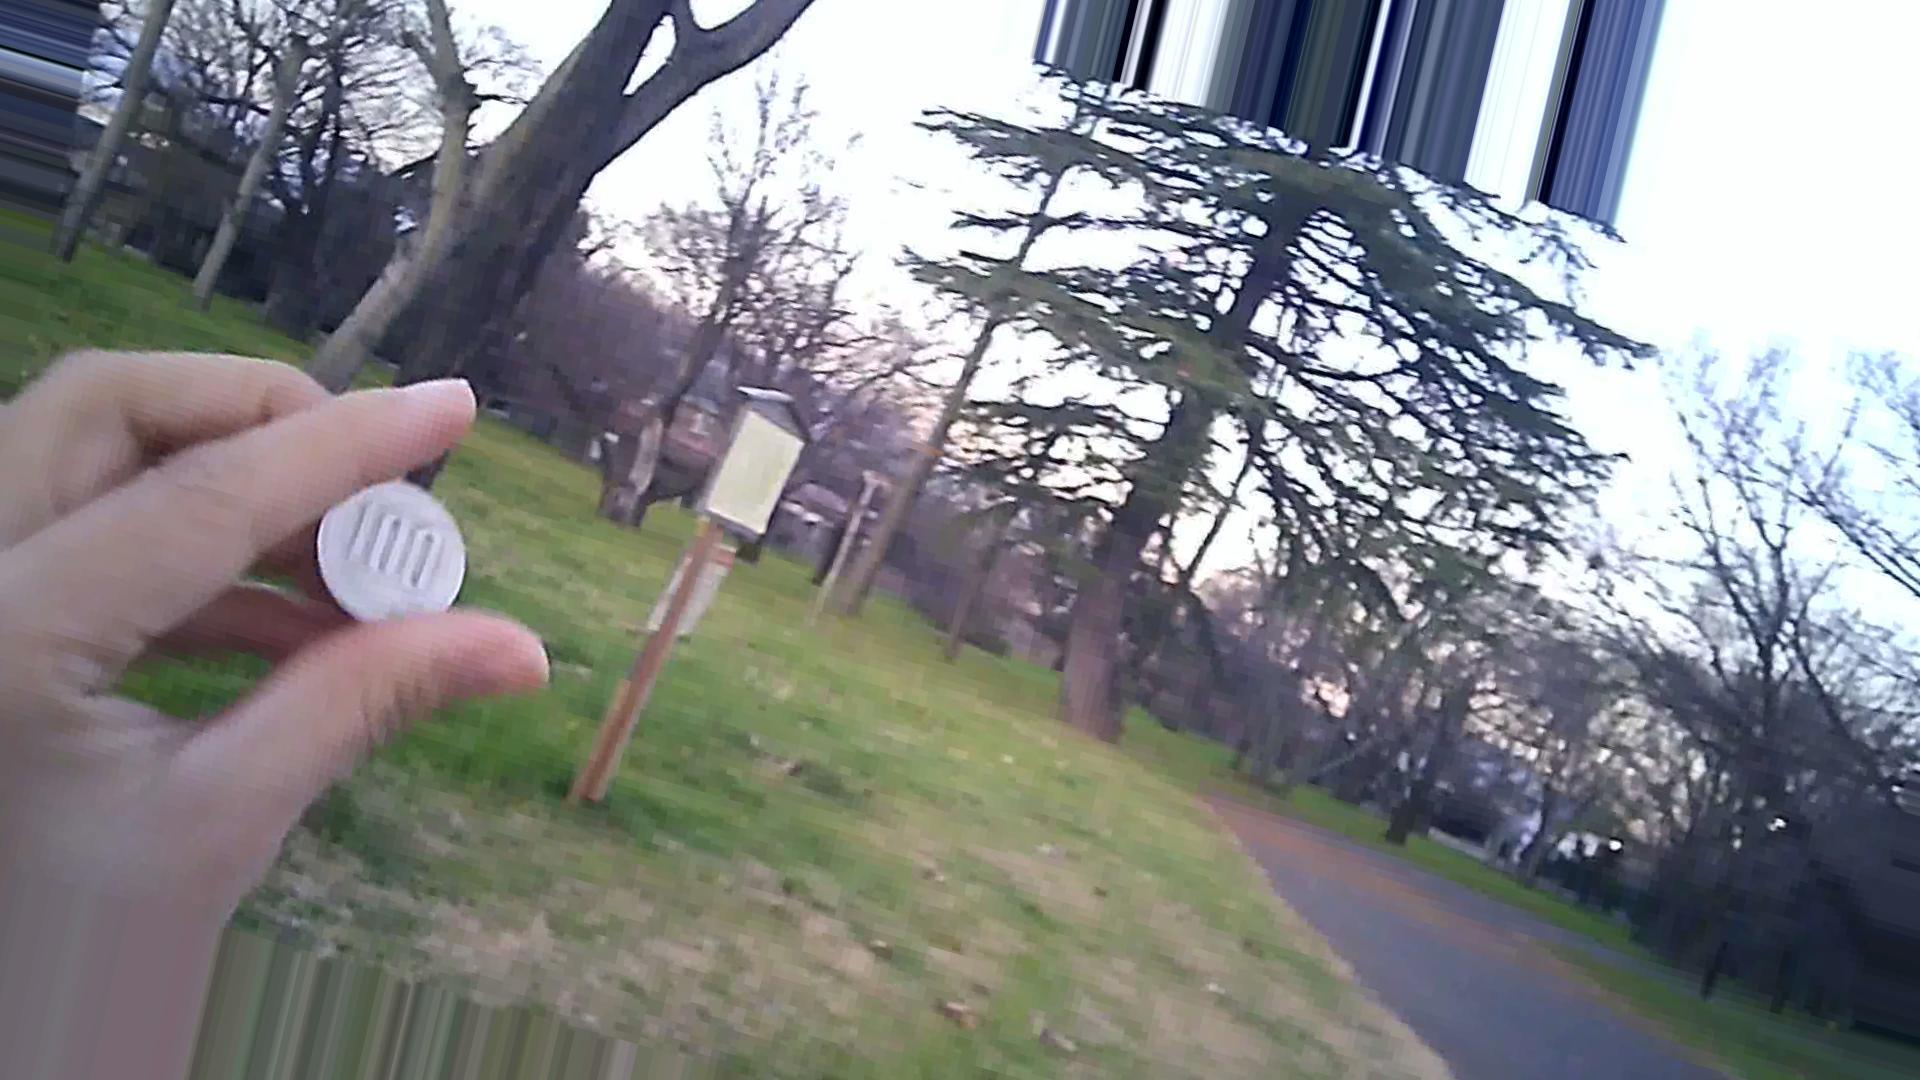100 Yen: (301, 475, 479, 621)
